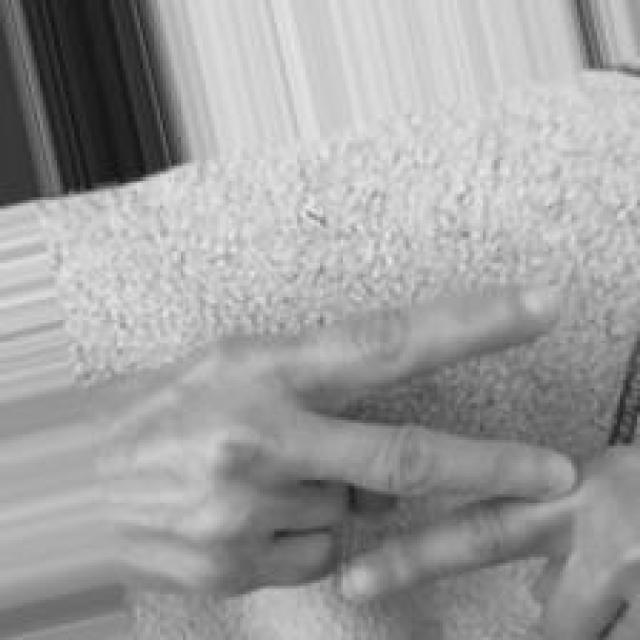Z: (126, 281, 640, 640)
